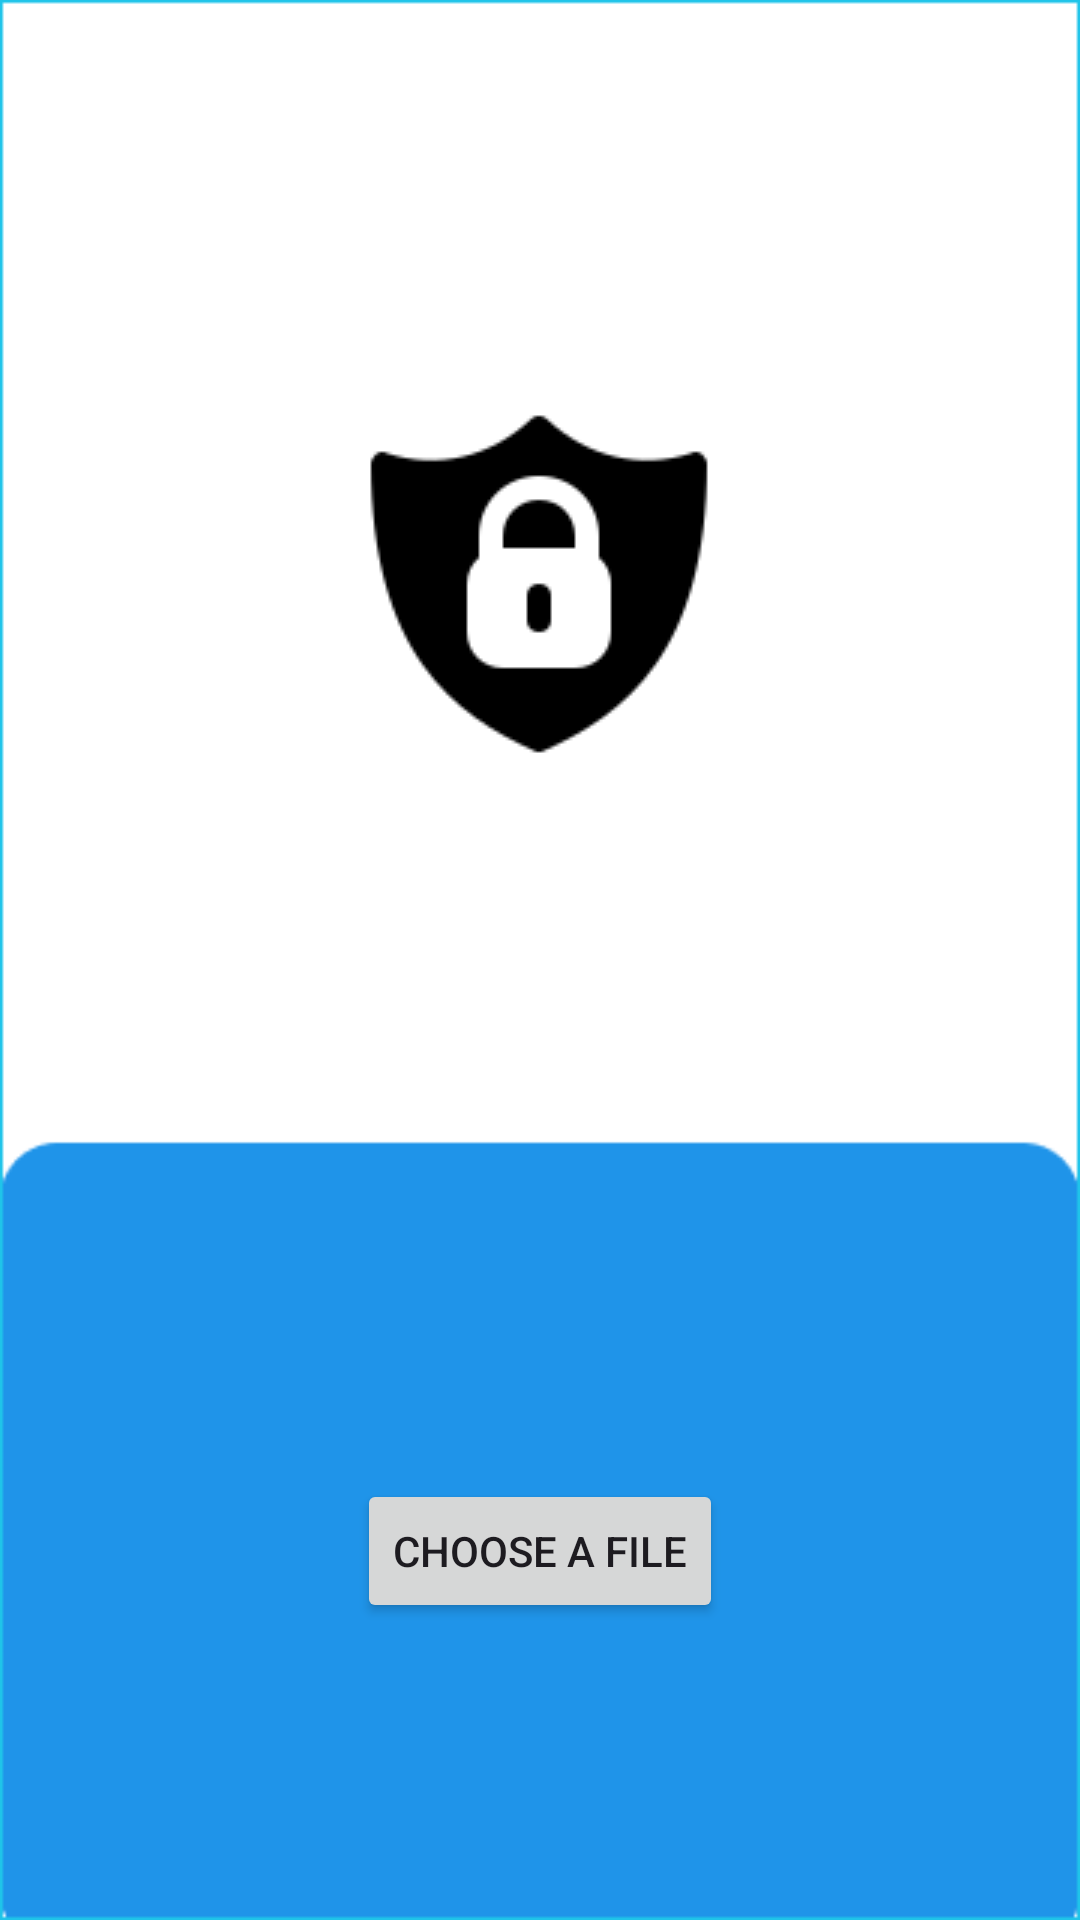

Icons on this 1080px x 1920px Android screen, each with its box as bbox=[x1, y1, x2, y2]:
padlock: bbox=[370, 415, 708, 753]
